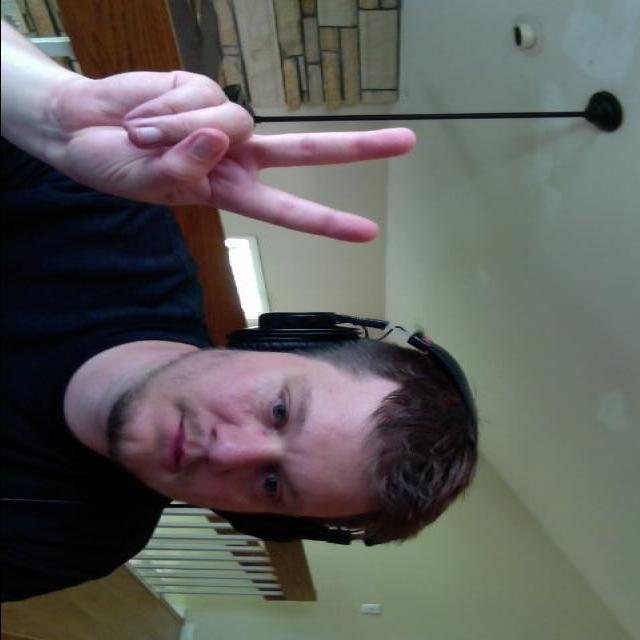Scissors: (53, 70, 419, 241)
